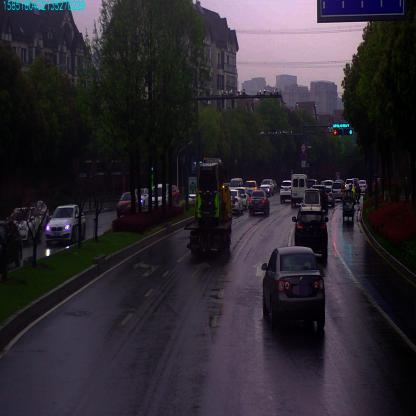traffic-light: (333, 121, 350, 128), (333, 128, 342, 136), (343, 129, 353, 135)
